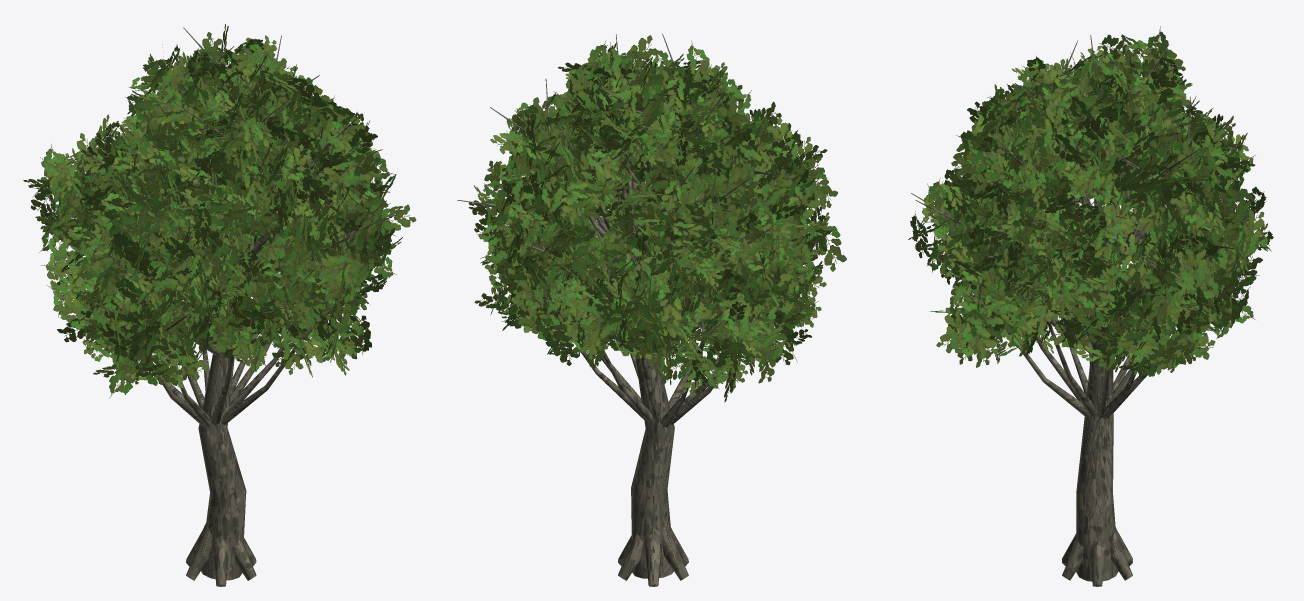
Rendered from G1_crossing_east-Btds_cmr.glb.
3 renders of one model, left to right at view 1: azimuth 30°, elevation 25°; view 2: azimuth 150°, elevation 25°; view 3: azimuth 270°, elevation 25°, orthographic.
Visible parts, largest first — view 1: G1_crossing_east_foliage, G1_crossing_east_branches; view 2: G1_crossing_east_foliage, G1_crossing_east_branches; view 3: G1_crossing_east_foliage, G1_crossing_east_branches.
Boxes of the visible parts, x1,y1,x2,y2 form: G1_crossing_east_foliage: (23, 24, 416, 398); G1_crossing_east_branches: (62, 27, 397, 586); G1_crossing_east_foliage: (468, 35, 846, 402); G1_crossing_east_branches: (457, 33, 786, 586); G1_crossing_east_foliage: (908, 26, 1273, 382); G1_crossing_east_branches: (911, 35, 1233, 586).
Size of the model in its own units: 5 by 7.03 by 4.64.
2 materials, 2 textured.
